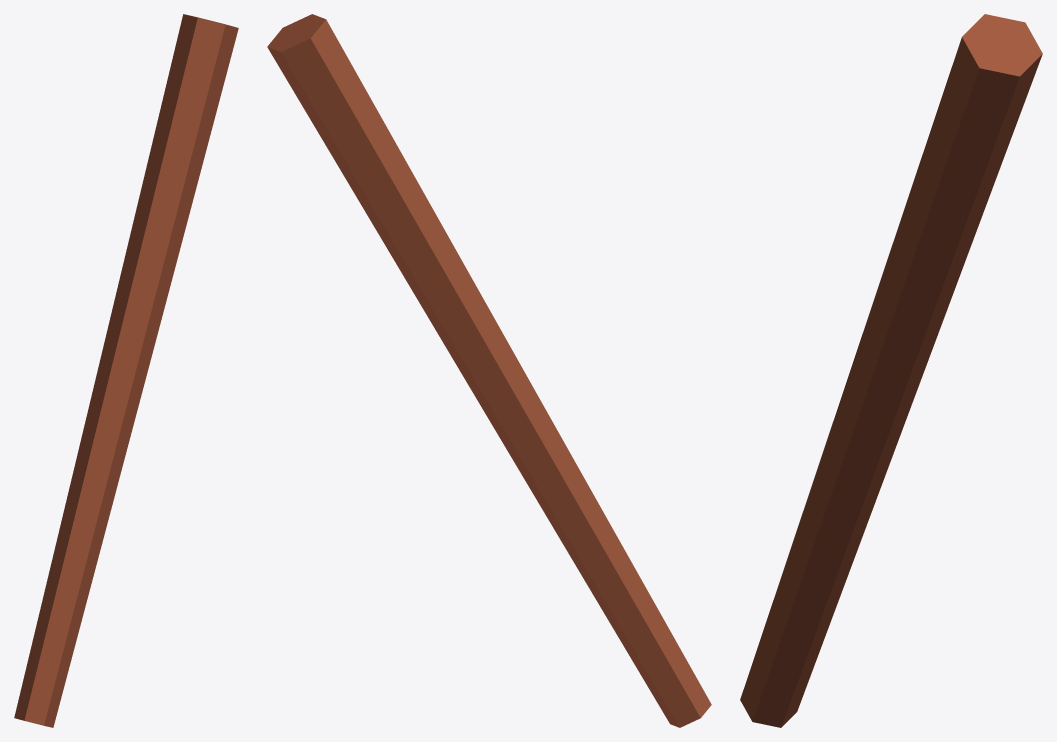
The model's file is rm2_leg_fr_tibia.obj.
The picture shows the model from 3 angles, left to right: view 1: azimuth 30°, elevation 25°; view 2: azimuth 150°, elevation 25°; view 3: azimuth 270°, elevation 25°; orthographic projection. The views are drawn at different scales.
Visible parts, largest first — view 1: rm2_leg_fr_tibia; view 2: rm2_leg_fr_tibia; view 3: rm2_leg_fr_tibia.
Boxes of the visible parts, box(x1,y1,x2,y2) form: rm2_leg_fr_tibia: box(14, 14, 238, 727); rm2_leg_fr_tibia: box(267, 14, 711, 727); rm2_leg_fr_tibia: box(740, 14, 1042, 727).
Size of the model in its own units: 0.3996 by 0.7871 by 0.2473.
